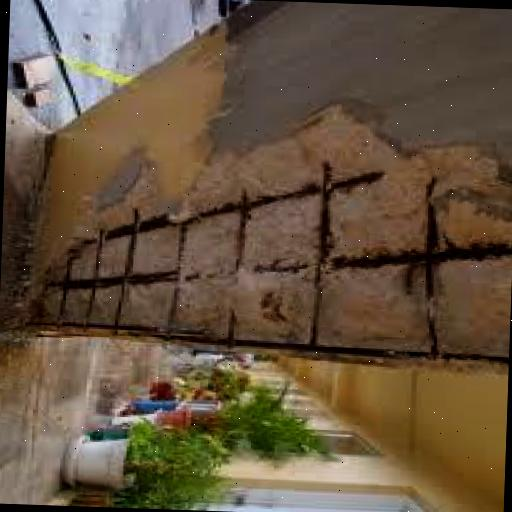spalling: (19, 106, 510, 375)
